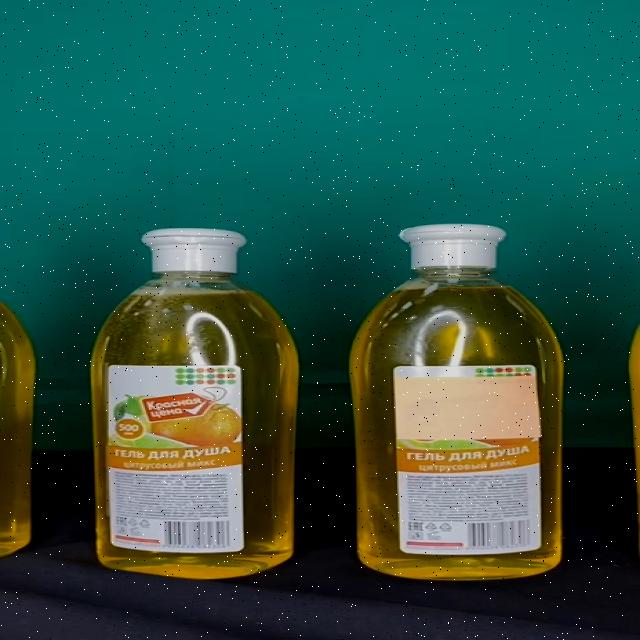Bottle: (350, 225, 564, 581), (90, 228, 301, 580)
Cap: (400, 225, 506, 269), (143, 229, 249, 272)
